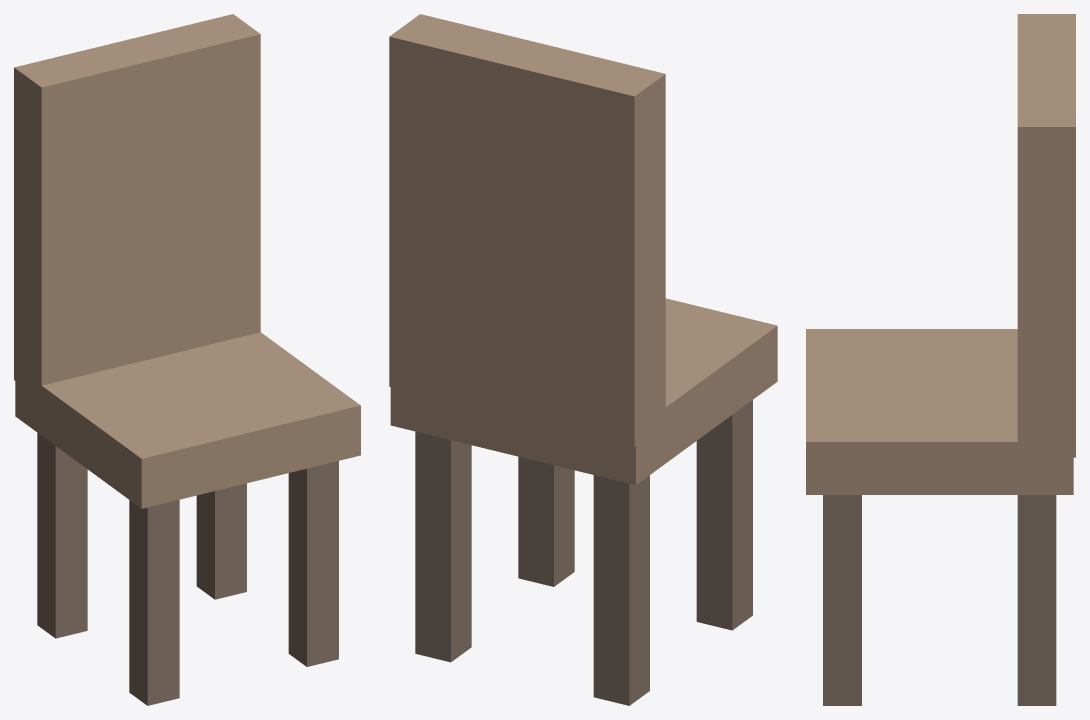
Rendered from dining_chair.glb.
The picture shows the model from 3 angles, left to right: view 1: azimuth 30°, elevation 25°; view 2: azimuth 150°, elevation 25°; view 3: azimuth 270°, elevation 25°; orthographic projection. The views are drawn at different scales.
Parts seen in each view (by area): view 1: part_01, part_00, part_03, part_05, part_02, part_04; view 2: part_01, part_00, part_02, part_04, part_03, part_05; view 3: part_00, part_01, part_04, part_05.
Part boxes in pixels (x1=…): part_01: x1=14, y1=14, x2=260, y2=393; part_00: x1=15, y1=332, x2=360, y2=508; part_03: x1=129, y1=499, x2=179, y2=705; part_05: x1=288, y1=461, x2=338, y2=666; part_02: x1=37, y1=433, x2=87, y2=638; part_04: x1=196, y1=483, x2=246, y2=599; part_01: x1=389, y1=14, x2=665, y2=446; part_00: x1=390, y1=298, x2=777, y2=485; part_02: x1=593, y1=475, x2=649, y2=705; part_04: x1=415, y1=431, x2=471, y2=662; part_03: x1=696, y1=400, x2=752, y2=630; part_05: x1=518, y1=456, x2=574, y2=586; part_00: x1=806, y1=329, x2=1073, y2=494; part_01: x1=1017, y1=14, x2=1075, y2=457; part_04: x1=1017, y1=495, x2=1056, y2=705; part_05: x1=823, y1=495, x2=861, y2=705.
Size of the model in its own units: 0.55 by 1.33 by 0.555.
